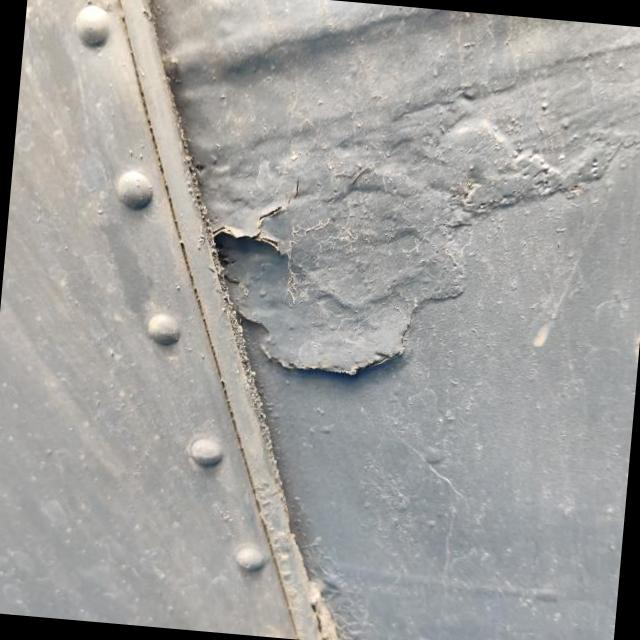Paint-off: (216, 191, 462, 375)
